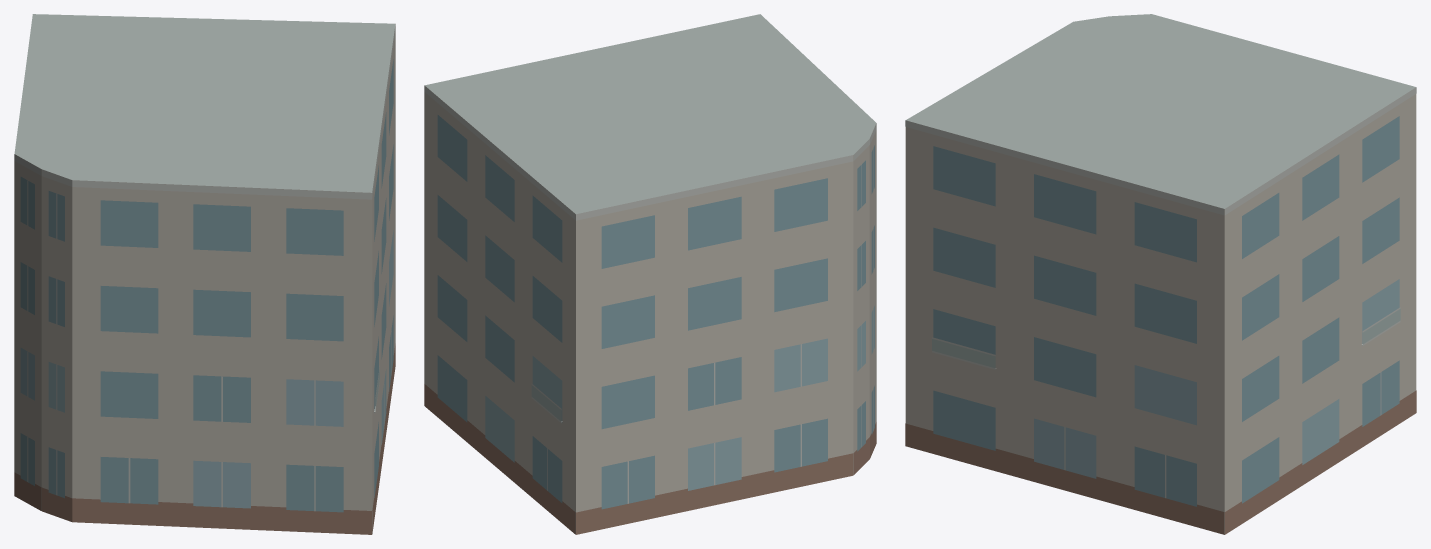
File: survey-upis-32632040.glb
3 renders of one model, left to right at view 1: azimuth 30°, elevation 25°; view 2: azimuth 150°, elevation 25°; view 3: azimuth 270°, elevation 25°, orthographic. The views are drawn at different scales.
Visible parts, largest first — view 1: survey-upis-32632040.tmp; view 2: survey-upis-32632040.tmp; view 3: survey-upis-32632040.tmp.
Part boxes in pixels (bbox=[...]): survey-upis-32632040.tmp: bbox=[14, 14, 395, 534]; survey-upis-32632040.tmp: bbox=[424, 14, 876, 534]; survey-upis-32632040.tmp: bbox=[905, 14, 1416, 534].
Size of the model in its own units: 15.66 by 12.2 by 17.34.
